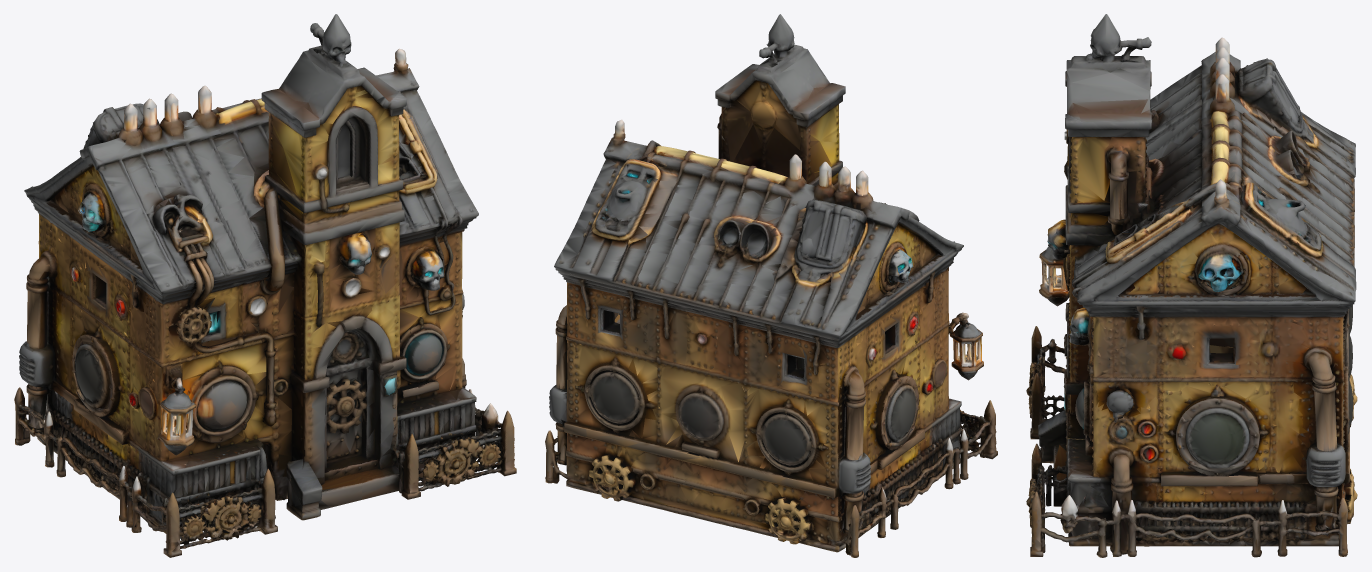
The model's file is steamhouse2rd.fbx.
3 views of the same model, side by side, from view 1: azimuth 30°, elevation 25°; view 2: azimuth 150°, elevation 25°; view 3: azimuth 270°, elevation 25° (orthographic). The views are drawn at different scales.
Parts seen in each view (by area): view 1: Mesh_0; view 2: Mesh_0; view 3: Mesh_0.
Boxes of the visible parts, x1,y1,x2,y2 form: Mesh_0: (14,14,516,557); Mesh_0: (545,14,997,557); Mesh_0: (1026,14,1357,557).
Size of the model in its own units: 150 by 190 by 121.
